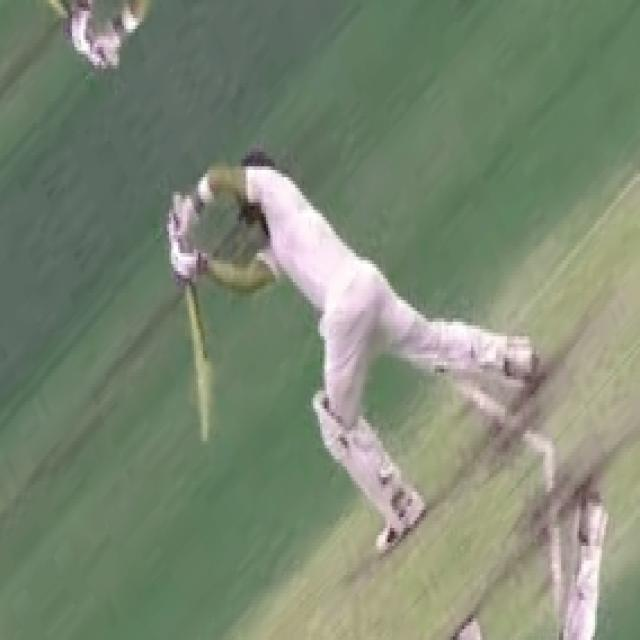bat: (171, 269, 219, 460)
